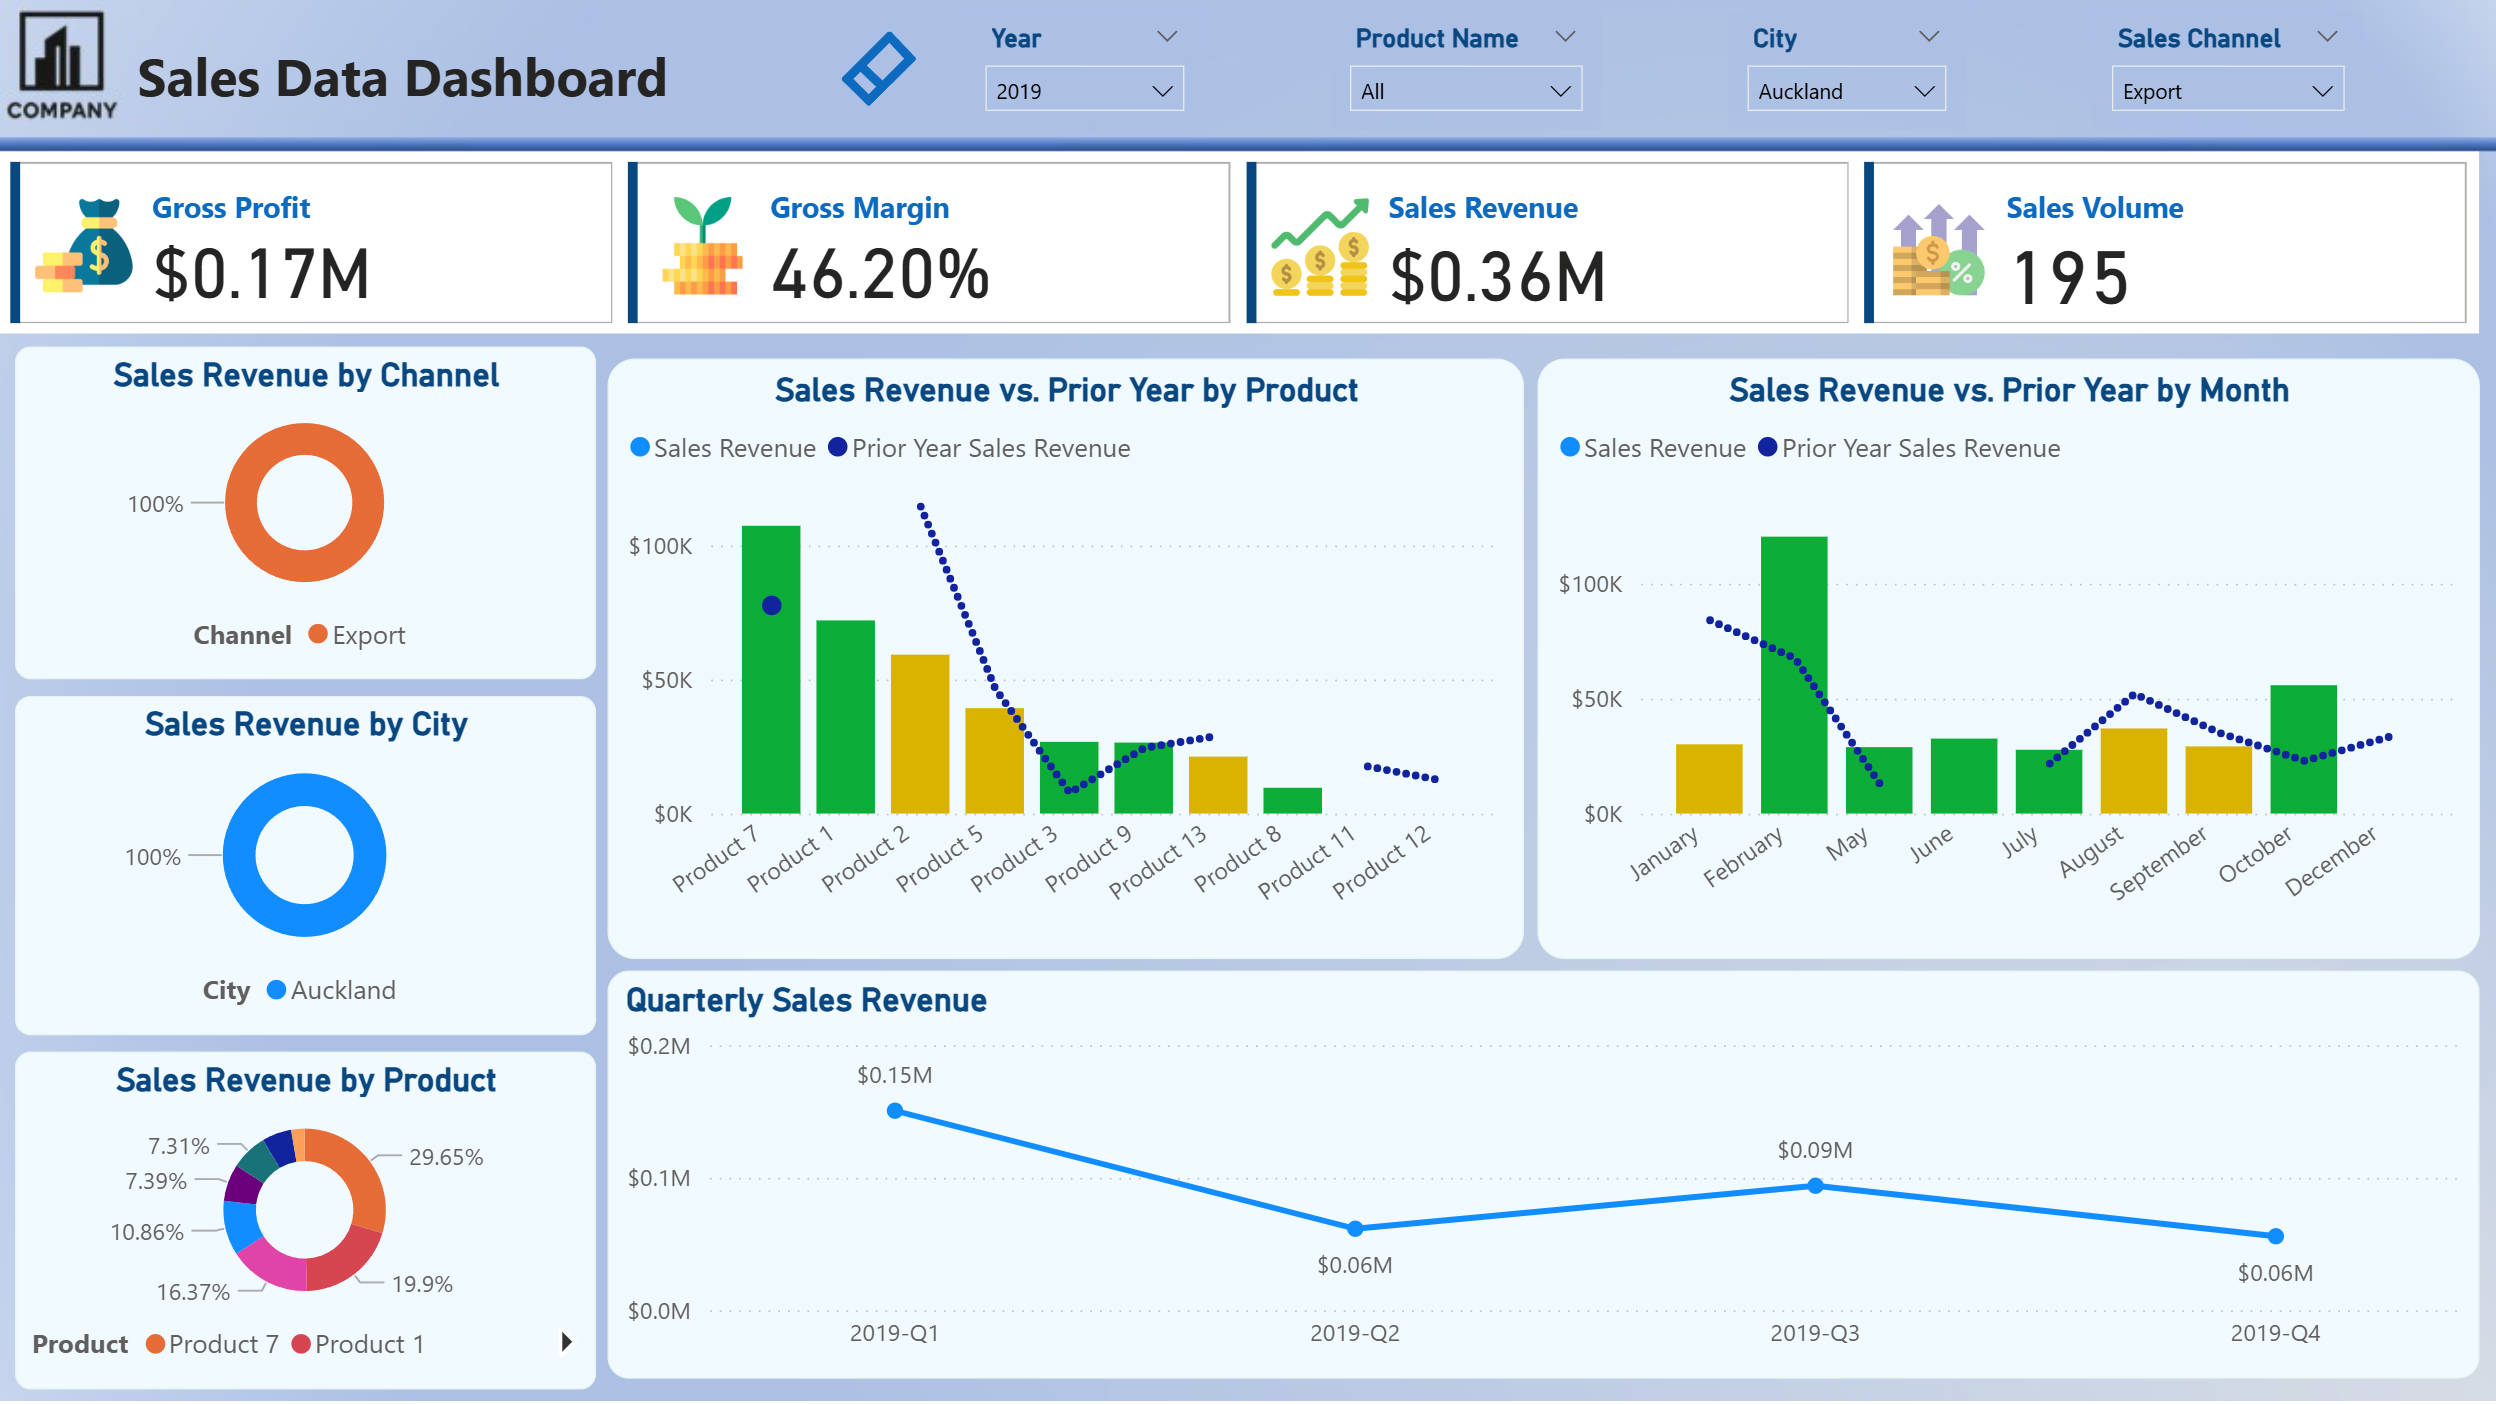

The page's visual inventory and layout, read from the dashboard file:
{"tool":"powerbi","page":{"name":"Page 1","canvas":[1280,720],"ordinal":0},"visuals":[{"type":"slicer","fields":{"Values":["dDate.Year"]},"box":[495.5,7.3,121.8,56.4],"z":0},{"type":"slicer","fields":{"Values":["Products_Data.产品名称"]},"box":[682.1,7.3,139.1,60],"z":1000},{"type":"slicer","fields":{"Values":["Regions_Table.城市"]},"box":[886.1,7.3,121.8,60],"z":2000},{"type":"slicer","fields":{"Values":["Sales_Data.销售渠道"]},"box":[1072.7,7.3,139.1,60],"z":3000},{"type":"cardVisual","fields":{"Data":["DAX Table.Gross Profit","DAX Table.Gross Margin","DAX Table.Sales Revenue","DAX Table.Sales Volume"]},"box":[0,77.7,1271.5,93.1],"z":4000},{"type":"donutChart","title":"Sales Revenue by Channel","fields":{"Category":["Sales_Data.销售渠道"],"Y":["DAX Table.Sales Revenue"]},"box":[7.7,177.7,297.7,170.8],"z":5000},{"type":"donutChart","title":"Sales Revenue by Product ","fields":{"Y":["DAX Table.Sales Revenue"],"Category":["Products_Data.产品名称"]},"box":[7.7,539.2,297.7,173.1],"z":6000},{"type":"donutChart","fields":{"Y":["DAX Table.Sales Revenue"],"Category":["Regions_Table.城市"]},"box":[7.7,356.9,297.7,173.8],"z":7000},{"type":"lineChart","title":"Quarterly Sales Revenue","fields":{"Category":["dDate.Year-Quarter"],"Y":["DAX Table.Sales Revenue"]},"box":[311.5,497.7,960,209.2],"z":8000},{"type":"lineClusteredColumnComboChart","title":"Sales Revenue vs. Prior Year by Product","fields":{"Category":["Products_Data.产品名称"],"Y":["DAX Table.Sales Revenue"],"Y2":["DAX Table.Prior Year Sales Revenue"]},"box":[311.5,183.8,470,307.7],"z":9000},{"type":"lineClusteredColumnComboChart","title":"Sales Revenue vs. Prior Year by Month","fields":{"Y":["DAX Table.Sales Revenue"],"Y2":["DAX Table.Prior Year Sales Revenue"],"Category":["dDate.Month"]},"box":[788.5,183.8,483.1,307.7],"z":10000},{"type":"actionButton","box":[427.7,12.3,48.5,46.2],"z":11000},{"type":"textbox","box":[65.4,15.4,296.9,62.3],"z":12000}]}

Visuals, with their boxes in screenshot pixels (x1, y1, x2, y2), scaled from the page's 1280x720 canvas onto the 2496x1404 screenshot:
slicer - dDate.Year: pyautogui.locateOnScreen(966, 14, 1204, 124)
slicer - Products_Data.产品名称: pyautogui.locateOnScreen(1330, 14, 1601, 131)
slicer - Regions_Table.城市: pyautogui.locateOnScreen(1728, 14, 1965, 131)
slicer - Sales_Data.销售渠道: pyautogui.locateOnScreen(2092, 14, 2363, 131)
cardVisual - DAX Table.Gross Profit x DAX Table.Gross Margin: pyautogui.locateOnScreen(0, 152, 2479, 333)
"Sales Revenue by Channel" donutChart: pyautogui.locateOnScreen(15, 347, 596, 680)
"Sales Revenue by Product " donutChart: pyautogui.locateOnScreen(15, 1051, 596, 1389)
donutChart - DAX Table.Sales Revenue x Regions_Table.城市: pyautogui.locateOnScreen(15, 696, 596, 1035)
"Quarterly Sales Revenue" lineChart: pyautogui.locateOnScreen(607, 971, 2479, 1378)
"Sales Revenue vs. Prior Year by Product" lineClusteredColumnComboChart: pyautogui.locateOnScreen(607, 358, 1524, 958)
"Sales Revenue vs. Prior Year by Month" lineClusteredColumnComboChart: pyautogui.locateOnScreen(1538, 358, 2480, 958)
actionButton: pyautogui.locateOnScreen(834, 24, 929, 114)
textbox: pyautogui.locateOnScreen(128, 30, 706, 152)
